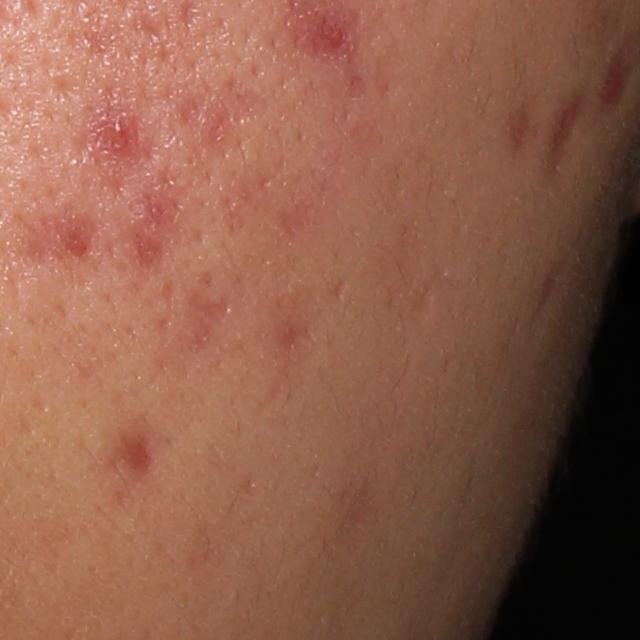atrophic_scar: (9, 212, 100, 271), (522, 246, 566, 329), (547, 89, 584, 176), (187, 292, 232, 354), (410, 269, 439, 336)
papule: (104, 118, 139, 154)
